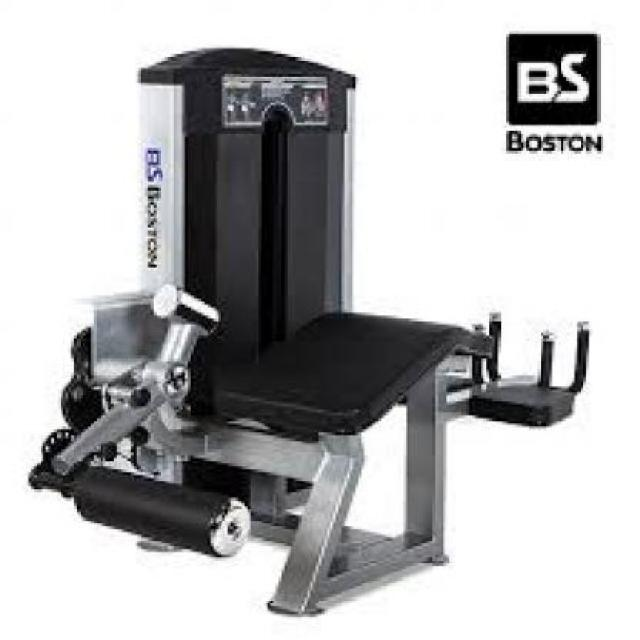reg curl machine: (8, 45, 610, 617)
